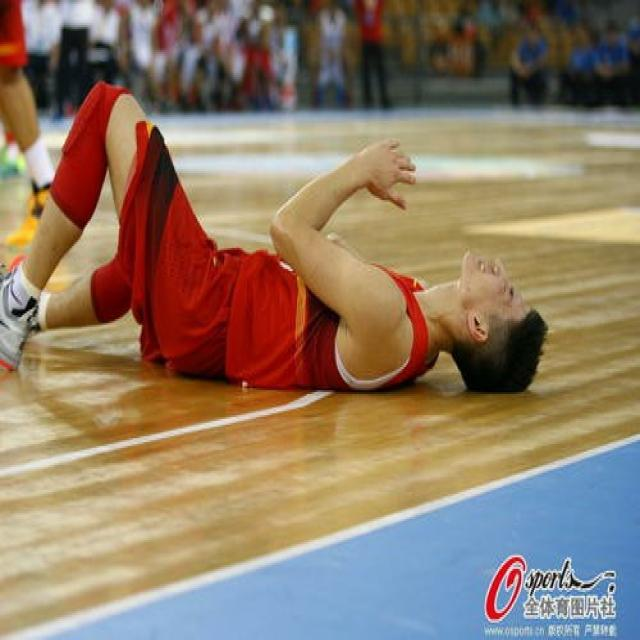10-: (0, 0, 639, 400)
down: (0, 65, 559, 395)
